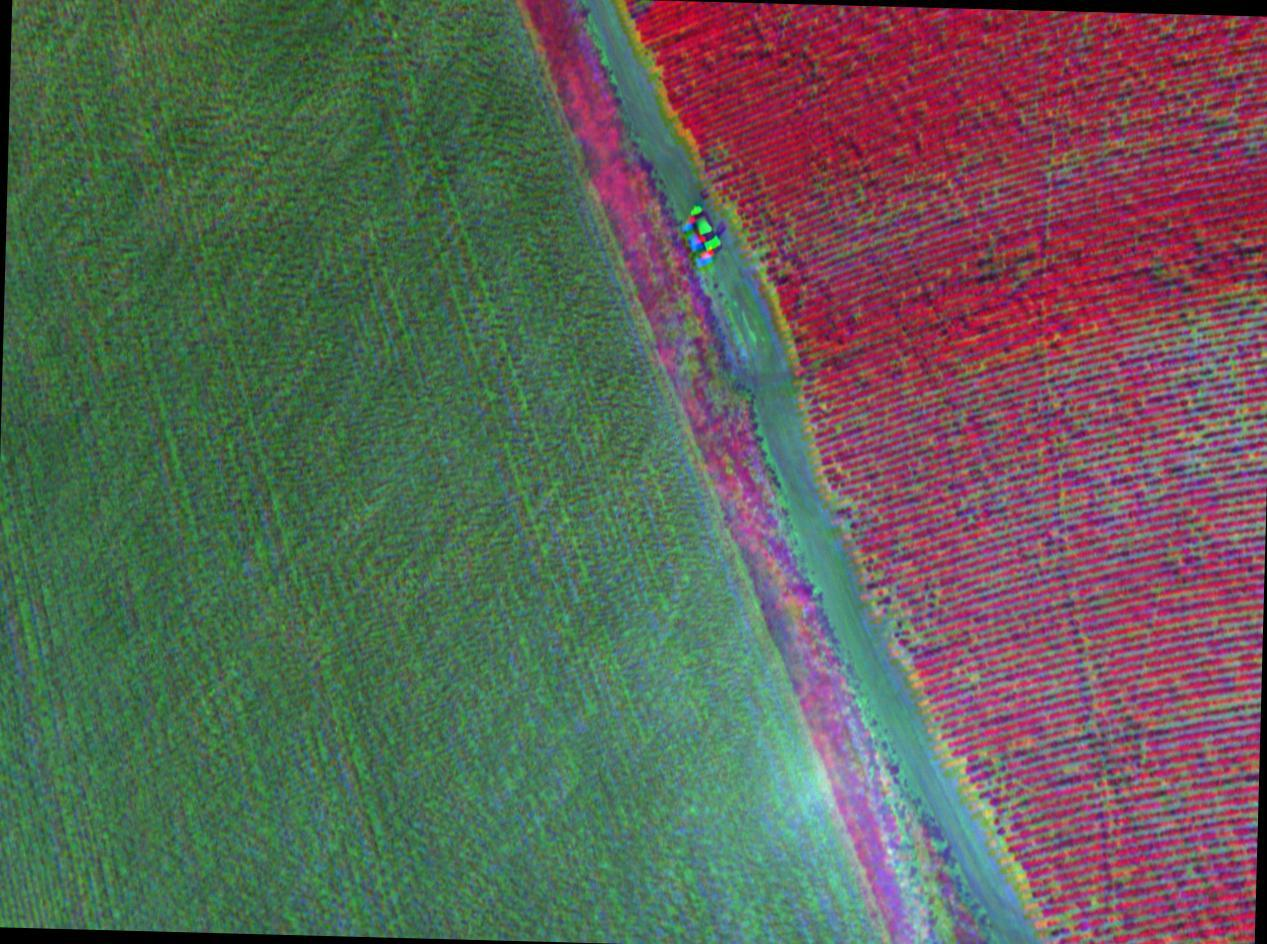dc: (826, 478, 930, 648), (1066, 398, 1184, 508), (948, 715, 1031, 863), (1186, 303, 1267, 421)
